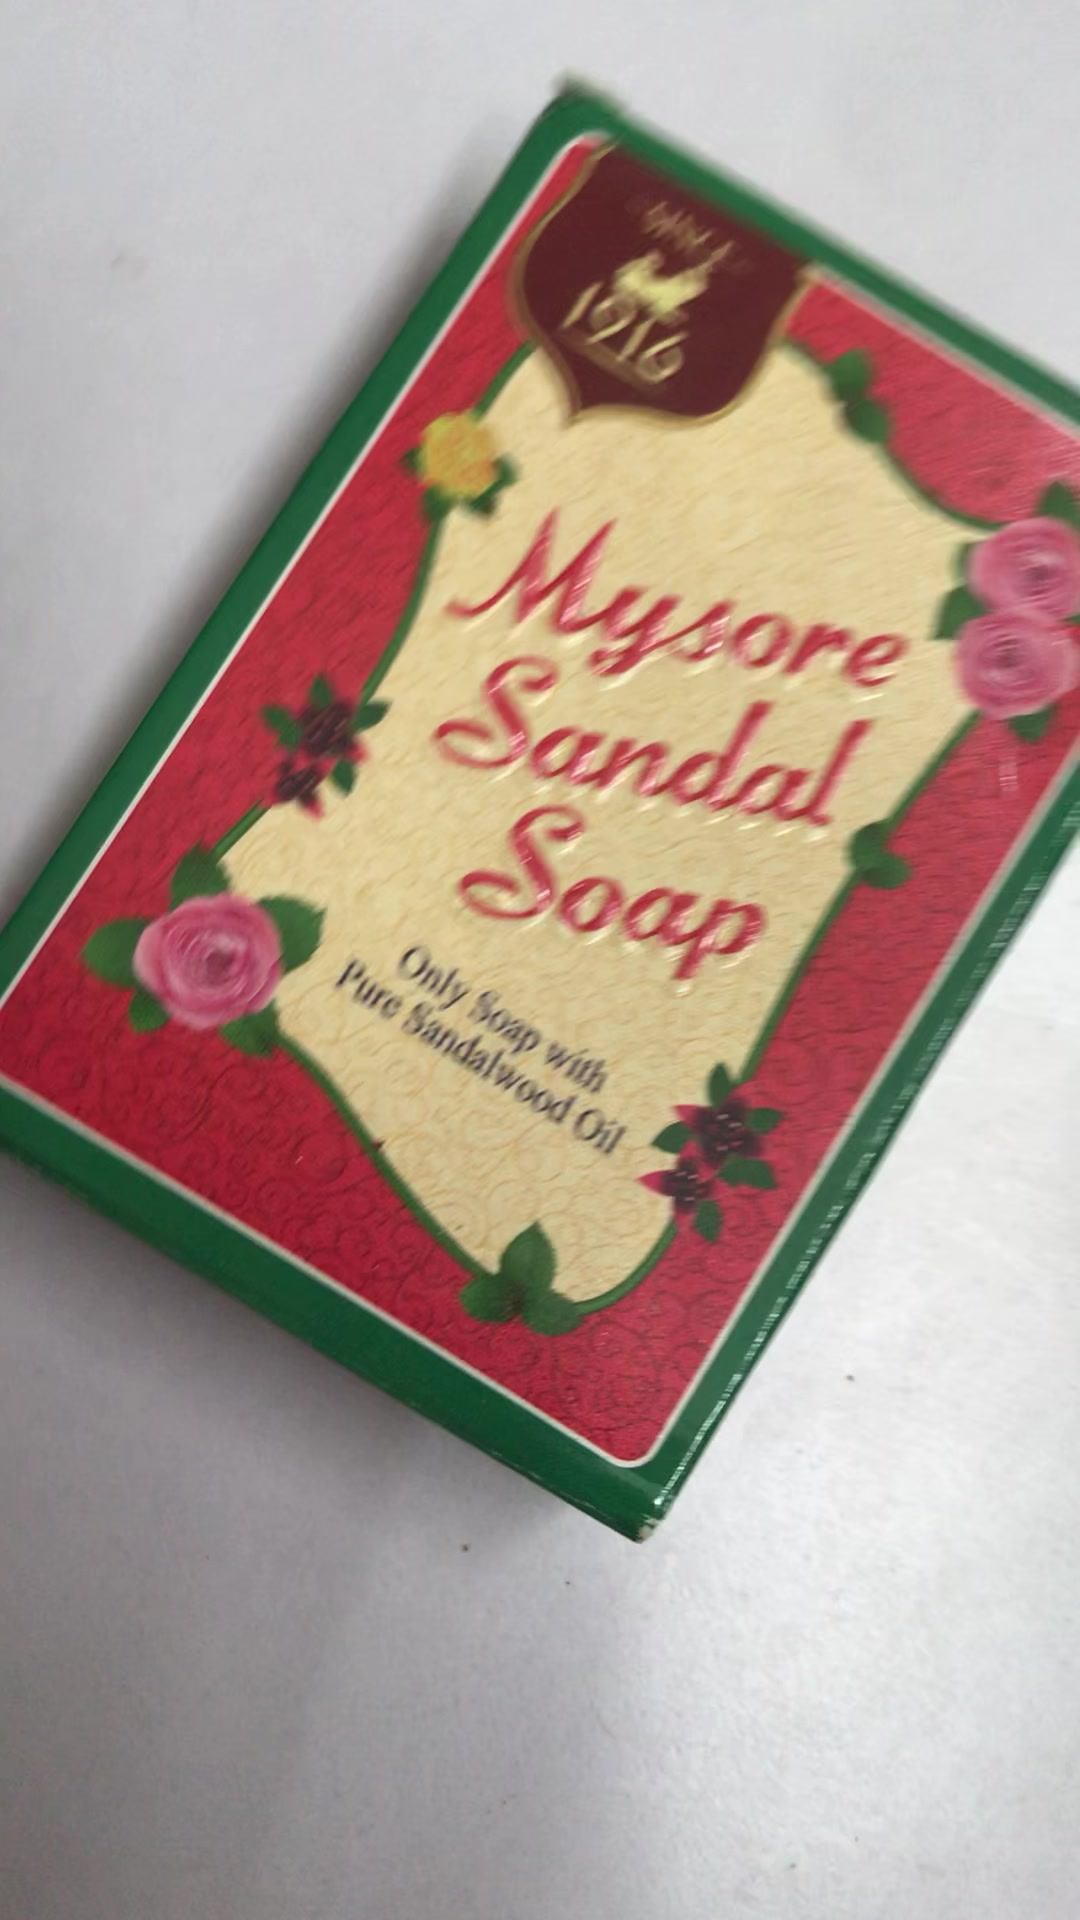mysore sandal soap: (9, 61, 1080, 1520)
